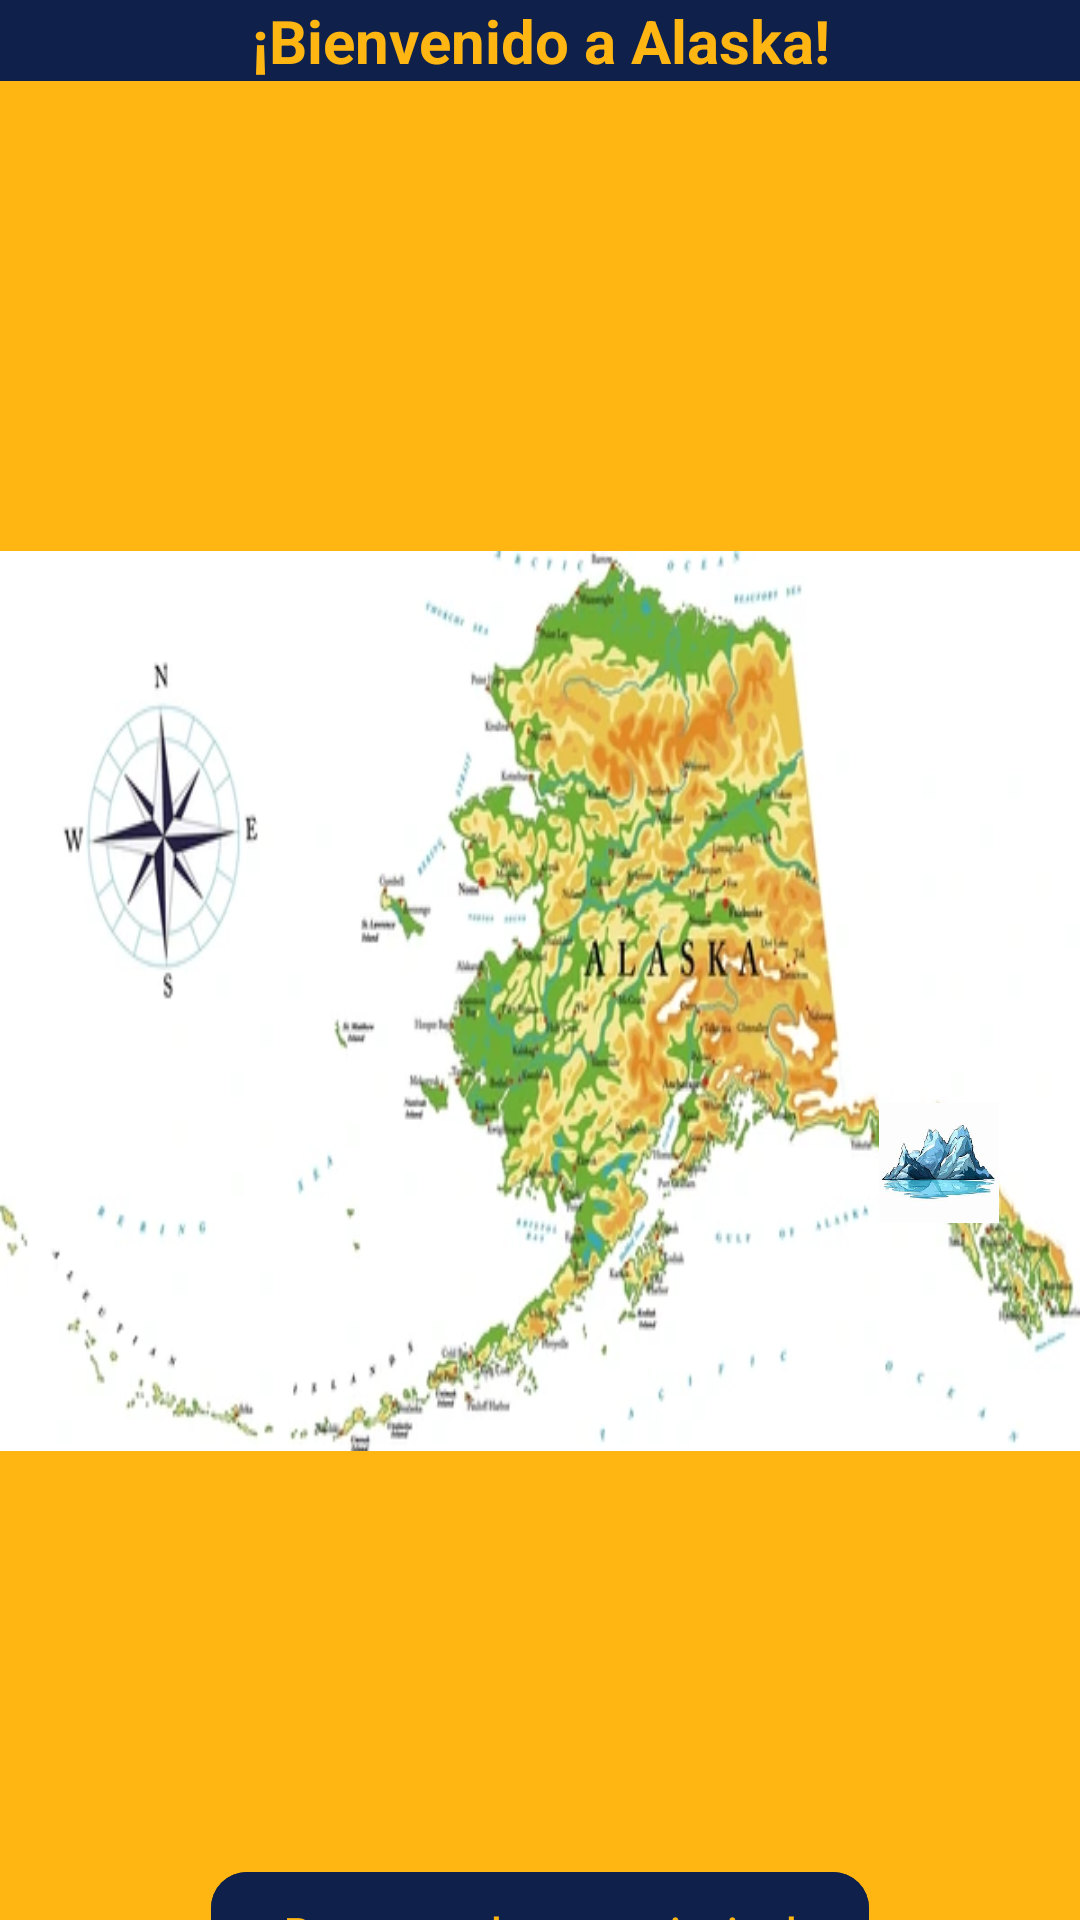

Icons on this 1080*1920 Android screen, each with its box as {"left": x1, "top": y1, "right": x2, "bottom": y2}:
glaciar: {"left": 882, "top": 1125, "right": 995, "bottom": 1199}
